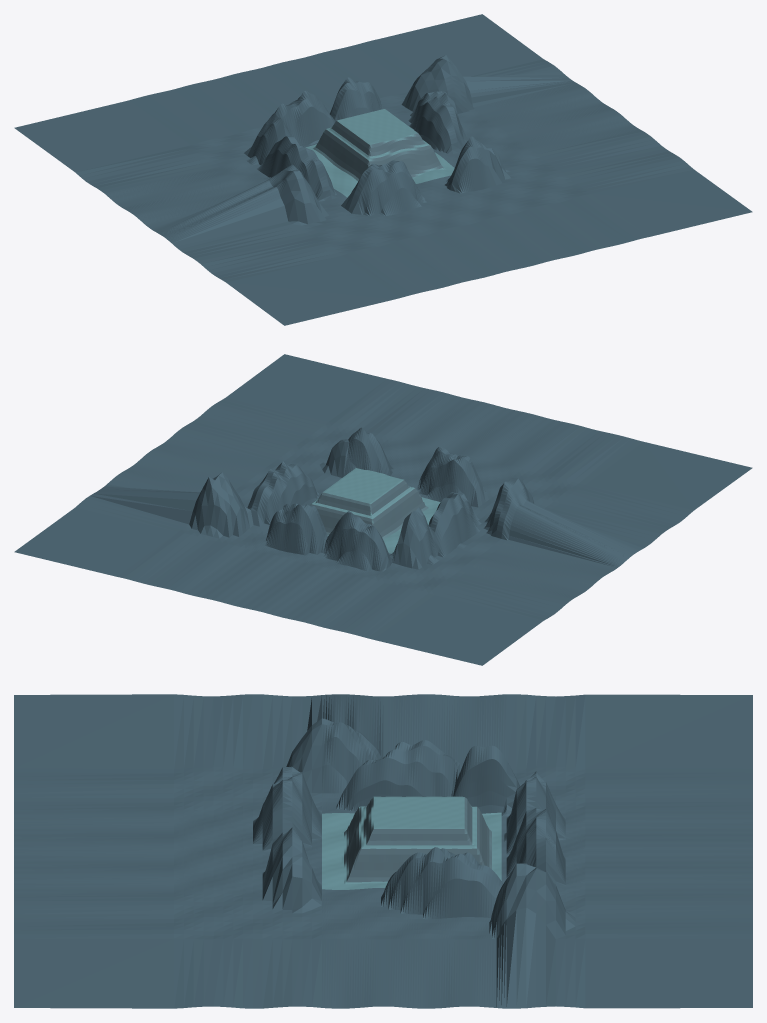
The model's file is seabed.glb.
The picture shows the model from 3 angles, top to bottom: view 1: azimuth 30°, elevation 25°; view 2: azimuth 150°, elevation 25°; view 3: azimuth 270°, elevation 25°; orthographic projection. The views are drawn at different scales.
Visible parts, largest first — view 1: seabed; view 2: seabed; view 3: seabed.
Boxes of the visible parts, x1,y1,x2,y2 form: seabed: (14,14,752,325); seabed: (14,354,752,665); seabed: (14,694,752,1008).
Size of the model in its own units: 1200 by 115 by 1200.
